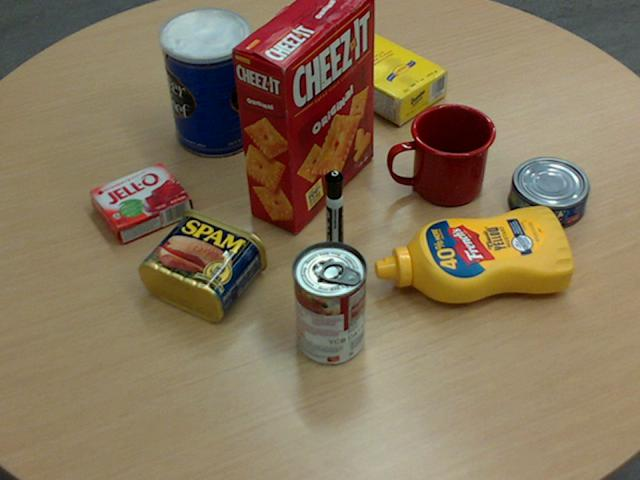cracker_box: (230, 0, 375, 233)
gelatin_box: (89, 160, 191, 243)
large_marker: (324, 171, 344, 265)
master_chef_can: (159, 7, 258, 157)
mug: (388, 102, 495, 205)
mustard_bottle: (374, 205, 573, 303)
potted_meat_can: (138, 208, 267, 321)
sugar_box: (298, 18, 447, 125)
tomato_soup_can: (290, 240, 366, 364)
tuna_fish_can: (507, 156, 588, 228)
